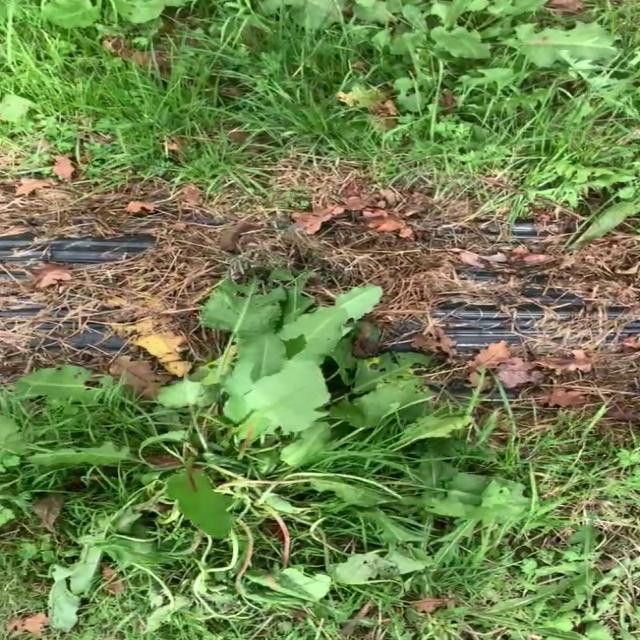organic waste: (0, 274, 592, 634), (272, 0, 640, 105), (11, 0, 225, 60)
